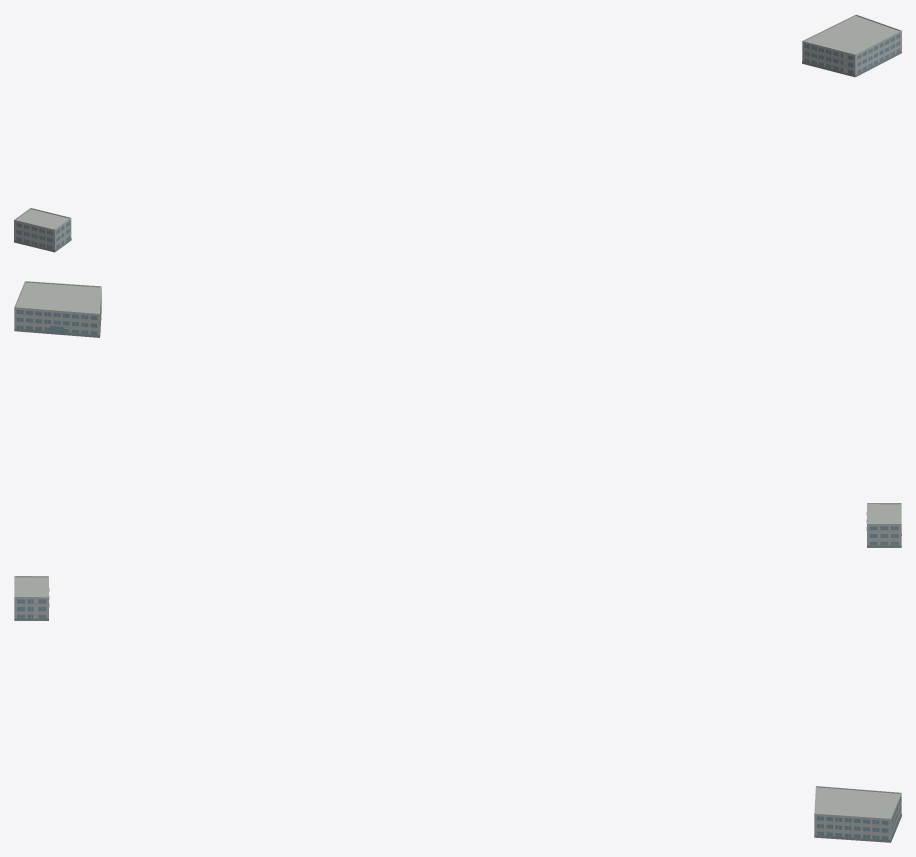
File: public-0c88c8a6-ad8f-4960-bd3c-891b0e424b1e.glb
3 views of the same model, one above another, from view 1: azimuth 30°, elevation 25°; view 2: azimuth 150°, elevation 25°; view 3: azimuth 330°, elevation 25° (orthographic). The views are drawn at different scales.
Visible parts, largest first — view 1: public-0c88c8a6-ad8f-4960-bd3c-891b0e424b1e; view 2: public-0c88c8a6-ad8f-4960-bd3c-891b0e424b1e; view 3: public-0c88c8a6-ad8f-4960-bd3c-891b0e424b1e.
Boxes of the visible parts, x1,y1,x2,y2 form: public-0c88c8a6-ad8f-4960-bd3c-891b0e424b1e: (14, 14, 901, 252); public-0c88c8a6-ad8f-4960-bd3c-891b0e424b1e: (14, 281, 901, 547); public-0c88c8a6-ad8f-4960-bd3c-891b0e424b1e: (14, 576, 901, 842).
Bounding box in the file's own units: 361 × 9.13 × 36.08.
